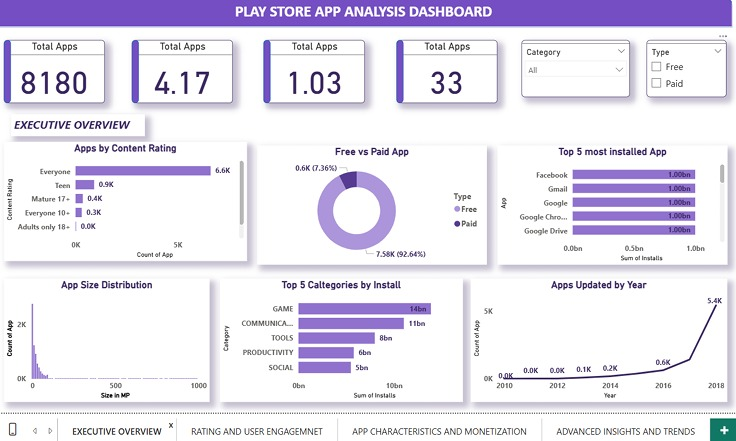

The page's visual inventory and layout, read from the dashboard file:
{"tool":"powerbi","page":{"name":"EXECUTIVE OVERVIEW","canvas":[1280,720],"ordinal":0},"visuals":[{"type":"shape","box":[9.8,9.8,1259.5,50.1],"z":0},{"type":"textbox","box":[413.3,11,495.2,48.9],"z":1000},{"type":"card","title":"Total Apps","fields":{"Values":["googleplaystore (3).Total Apps"]},"box":[22,81.9,172.4,107.6],"z":2000},{"type":"shape","box":[22,81.9,12.2,107.6],"z":3000},{"type":"card","title":"Total Apps","fields":{"Values":["googleplaystore (3).Total Categories"]},"box":[694.6,81.9,172.4,107.6],"z":4000},{"type":"card","title":"Total Apps","fields":{"Values":["Avg(googleplaystore (3).Price)"]},"box":[465.9,81.9,173.6,107.6],"z":5000},{"type":"card","title":"Total Apps","fields":{"Values":["googleplaystore (3).Average Rating"]},"box":[240.9,81.9,172.4,107.6],"z":6000},{"type":"shape","box":[465.9,81.9,12.2,107.6],"z":7000},{"type":"shape","box":[240.9,81.9,12.2,107.6],"z":8000},{"type":"shape","box":[694.6,81.9,12.2,107.6],"z":9000},{"type":"textbox","box":[34.2,209.1,228.7,37.9],"z":10000},{"type":"donutChart","title":"Free vs Paid App","fields":{"Category":["googleplaystore (3).Type"],"Y":["Count(googleplaystore (3).App)"]},"box":[454.9,262.9,393.8,204.2],"z":11000},{"type":"clusteredColumnChart","title":"App Size Distribution","fields":{"Category":["googleplaystore (3).Size (bins)"],"Y":["CountNonNull(googleplaystore (3).App)"]},"box":[22,490.4,352.2,211.6],"z":12000},{"type":"clusteredBarChart","title":"Apps by Content Rating","fields":{"Category":["googleplaystore (3).Content Rating"],"Y":["CountNonNull(googleplaystore (3).App)"]},"box":[22,256.8,415.8,204.2],"z":13000},{"type":"clusteredBarChart","title":"Top 5 most installed App","fields":{"Category":["googleplaystore (3).App"],"Y":["Sum(googleplaystore (3).Installs)"]},"box":[867,262.9,393.8,204.2],"z":14000},{"type":"clusteredBarChart","title":"Top 5 Caltegories by Install","fields":{"Category":["googleplaystore (3).Category"],"Y":["Sum(googleplaystore (3).Installs)"]},"box":[391.3,490.4,415.8,211.6],"z":15000},{"type":"lineChart","title":"Apps Updated by Year","fields":{"Category":["googleplaystore (3).Last Updated.Variation.Date Hierarchy.Year"],"Y":["Count(googleplaystore (3).App)"]},"box":[820.5,490.4,439,211.6],"z":16000},{"type":"slicer","fields":{"Values":["googleplaystore (3).Category"]},"box":[908.6,81.9,185.9,97.8],"z":17000},{"type":"slicer","fields":{"Values":["googleplaystore (3).Type"]},"box":[1122.6,81.9,137,97.8],"z":18000}]}

Visuals, with their boxes on the page's 1280x720 design canvas (x1, y1, x2, y2). These are canvas units, not pixel positions in the 736x441 screenshot, which may show the page scaled, cropped or inside an application window:
shape: detection(10, 10, 1269, 60)
textbox: detection(413, 11, 908, 60)
"Total Apps" card: detection(22, 82, 194, 190)
shape: detection(22, 82, 34, 190)
"Total Apps" card: detection(695, 82, 867, 190)
"Total Apps" card: detection(466, 82, 640, 190)
"Total Apps" card: detection(241, 82, 413, 190)
shape: detection(466, 82, 478, 190)
shape: detection(241, 82, 253, 190)
shape: detection(695, 82, 707, 190)
textbox: detection(34, 209, 263, 247)
"Free vs Paid App" donutChart: detection(455, 263, 849, 467)
"App Size Distribution" clusteredColumnChart: detection(22, 490, 374, 702)
"Apps by Content Rating" clusteredBarChart: detection(22, 257, 438, 461)
"Top 5 most installed App" clusteredBarChart: detection(867, 263, 1261, 467)
"Top 5 Caltegories by Install" clusteredBarChart: detection(391, 490, 807, 702)
"Apps Updated by Year" lineChart: detection(820, 490, 1260, 702)
slicer - googleplaystore (3).Category: detection(909, 82, 1094, 180)
slicer - googleplaystore (3).Type: detection(1123, 82, 1260, 180)
